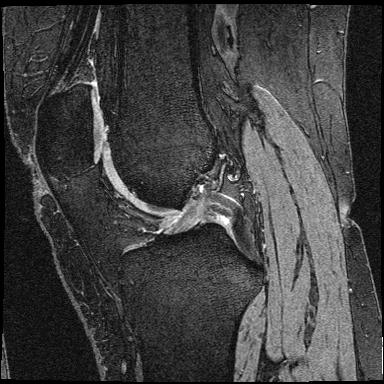SagKneeJointArea: (35, 83, 266, 321)
